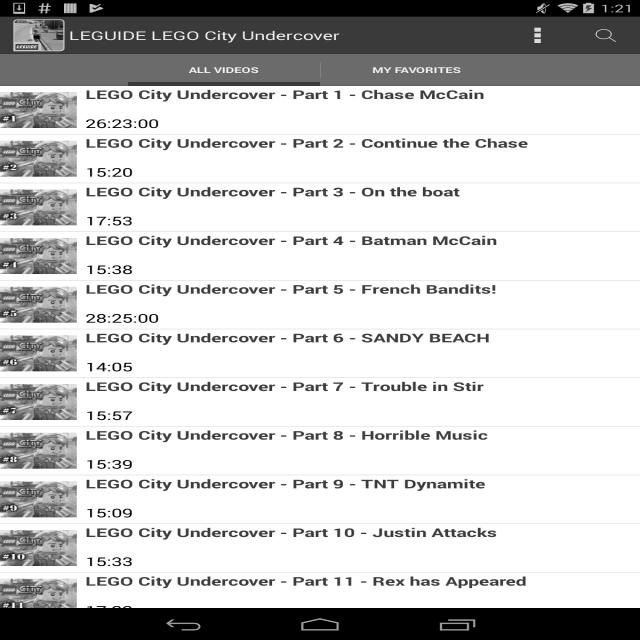ImageView: (0, 86, 77, 134), (0, 134, 77, 182), (0, 184, 77, 232), (0, 232, 77, 280), (0, 280, 77, 328), (0, 330, 77, 378), (0, 378, 77, 426), (0, 426, 77, 474), (0, 476, 77, 524), (0, 524, 77, 572), (0, 572, 77, 620), (14, 19, 64, 52)
TextView: (86, 135, 528, 151), (85, 573, 527, 589), (85, 329, 490, 346), (86, 475, 486, 492), (85, 232, 498, 248), (85, 524, 498, 540), (86, 281, 497, 297), (86, 427, 488, 443), (85, 86, 485, 102), (85, 378, 484, 394), (86, 183, 460, 200), (69, 27, 340, 43), (86, 102, 296, 115), (86, 151, 296, 164), (86, 248, 296, 261), (86, 297, 296, 310), (86, 394, 296, 407), (86, 443, 296, 456), (86, 540, 296, 553), (86, 589, 296, 602), (571, 16, 640, 54), (503, 17, 572, 54), (86, 200, 296, 212), (86, 346, 296, 358), (86, 492, 296, 504), (85, 115, 159, 131), (85, 310, 159, 326), (372, 64, 462, 76), (188, 64, 258, 76), (85, 212, 133, 229), (85, 358, 133, 375), (85, 504, 133, 521), (85, 164, 133, 180), (85, 261, 133, 277), (85, 407, 133, 423), (85, 456, 133, 472), (85, 553, 133, 569), (85, 602, 133, 618)
